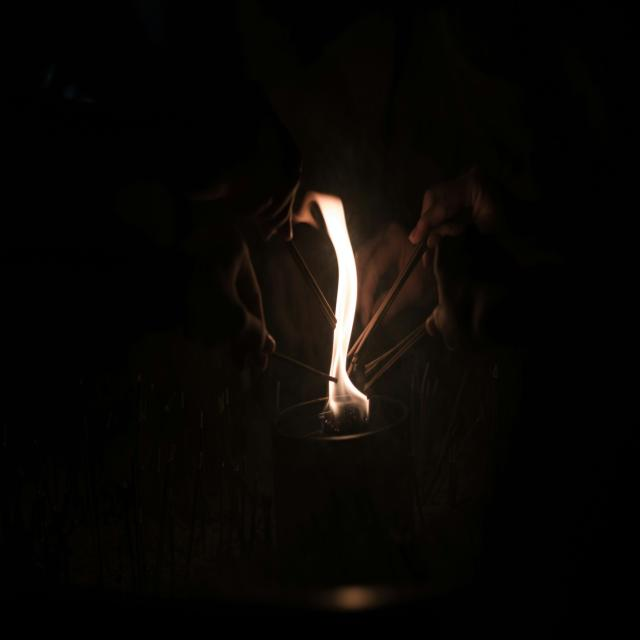fire: (294, 190, 369, 417)
